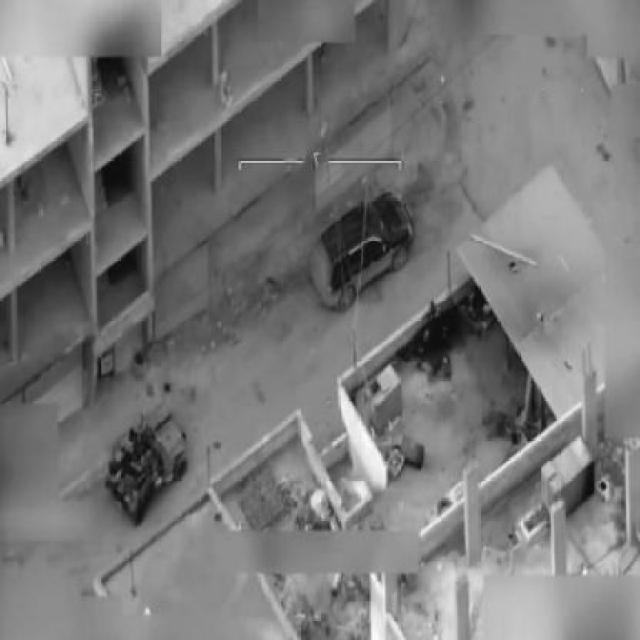Vehicle: (311, 187, 417, 312), (103, 398, 191, 527)
